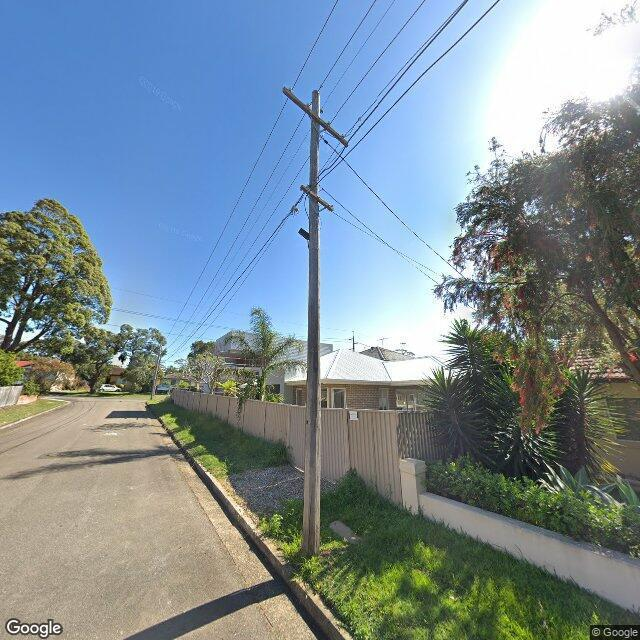crossarm: (282, 86, 350, 148), (301, 185, 334, 212)
timber-pole: (300, 90, 322, 556), (150, 346, 160, 399)
